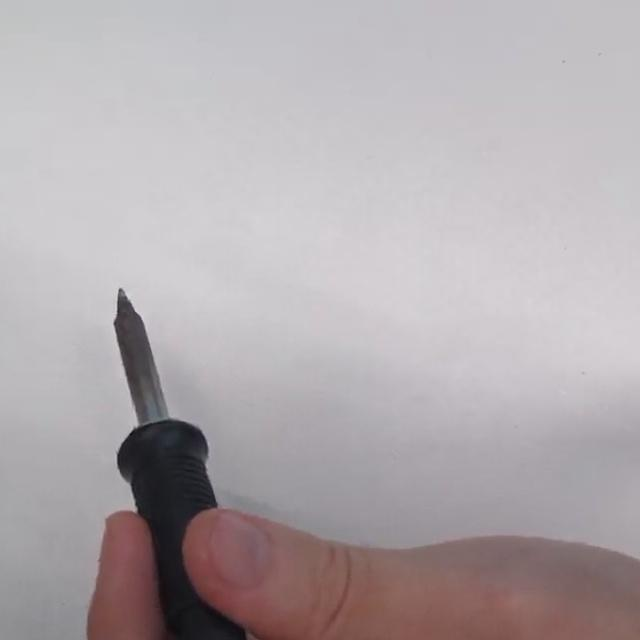soldering_iron: (108, 287, 247, 640)
